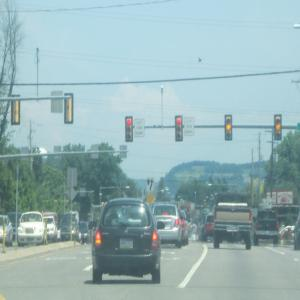Vehicle-registration-plate: (160, 219, 172, 230), (121, 240, 134, 248), (229, 224, 241, 232), (27, 229, 35, 237)
